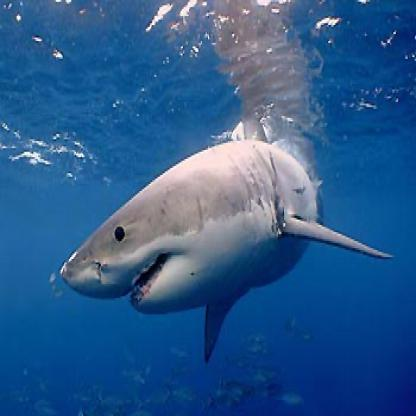shark: (58, 112, 391, 356)
